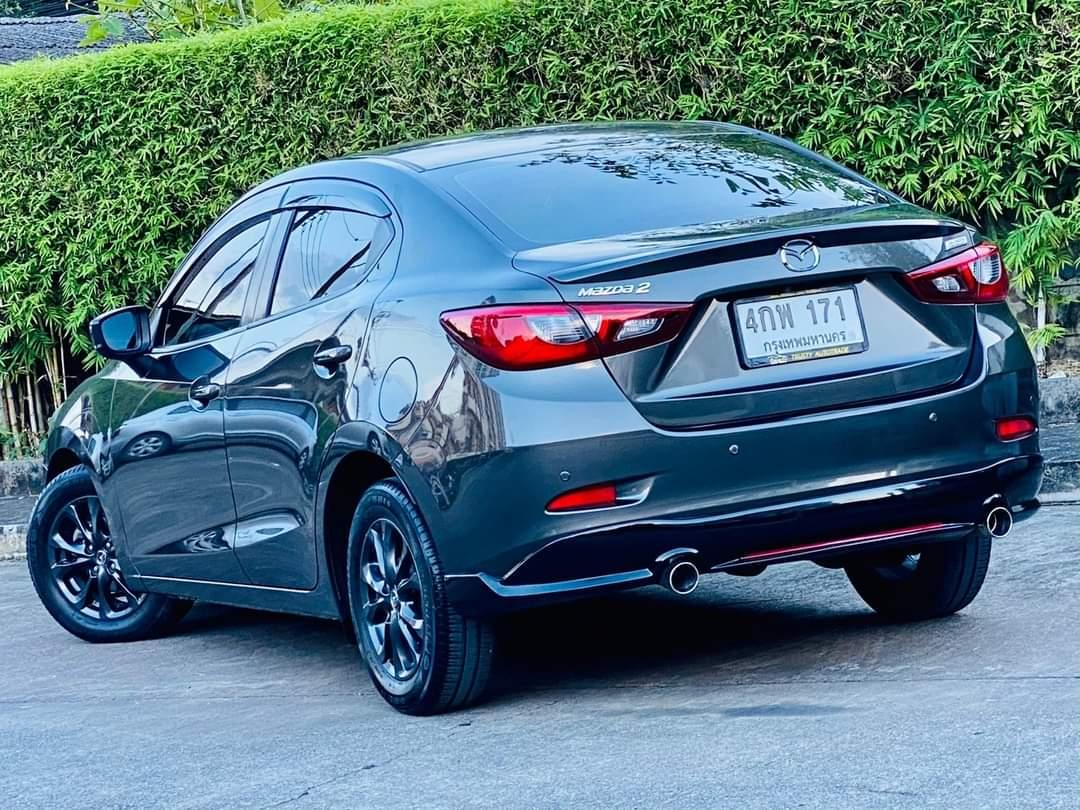license-plate: (722, 274, 877, 372)
